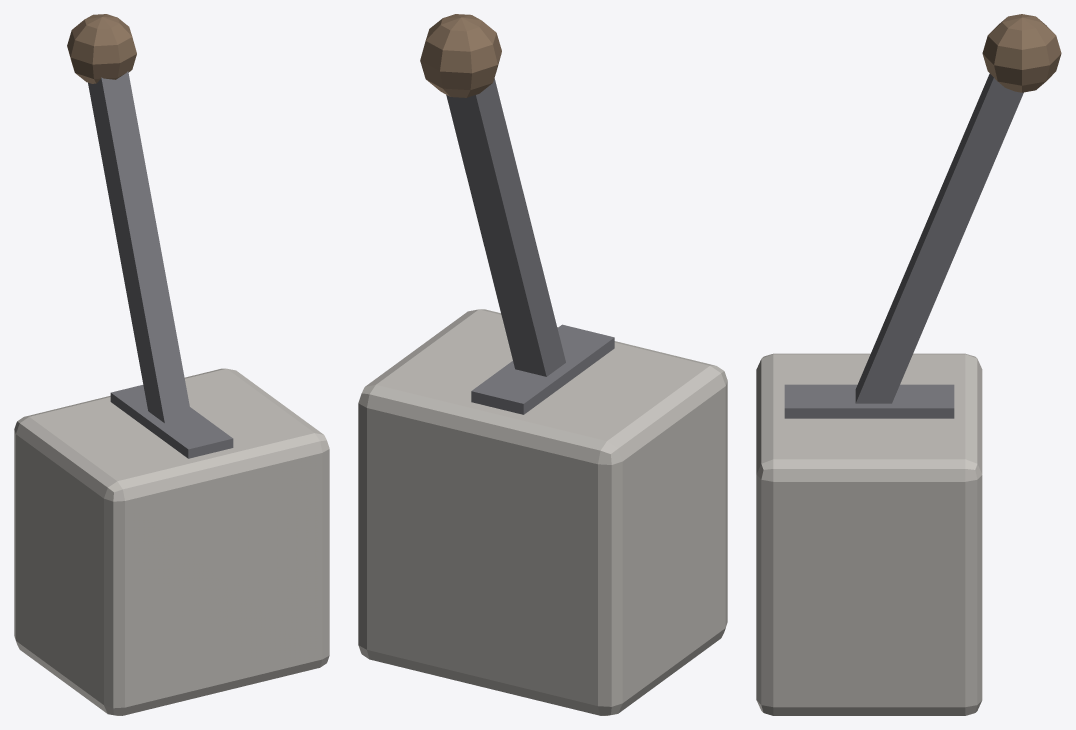
The model's file is lever.glb.
3 views of the same model, side by side, from view 1: azimuth 30°, elevation 25°; view 2: azimuth 150°, elevation 25°; view 3: azimuth 270°, elevation 25° (orthographic). The views are drawn at different scales.
Visible parts, largest first — view 1: lever; view 2: lever; view 3: lever.
Part boxes in pixels (left/top/right/bottom): lever: left=14, top=14, right=329, bottom=715; lever: left=358, top=14, right=727, bottom=715; lever: left=756, top=14, right=1061, bottom=715.
Bounding box in the file's own units: 0.4999 × 1.26 × 0.5399.
